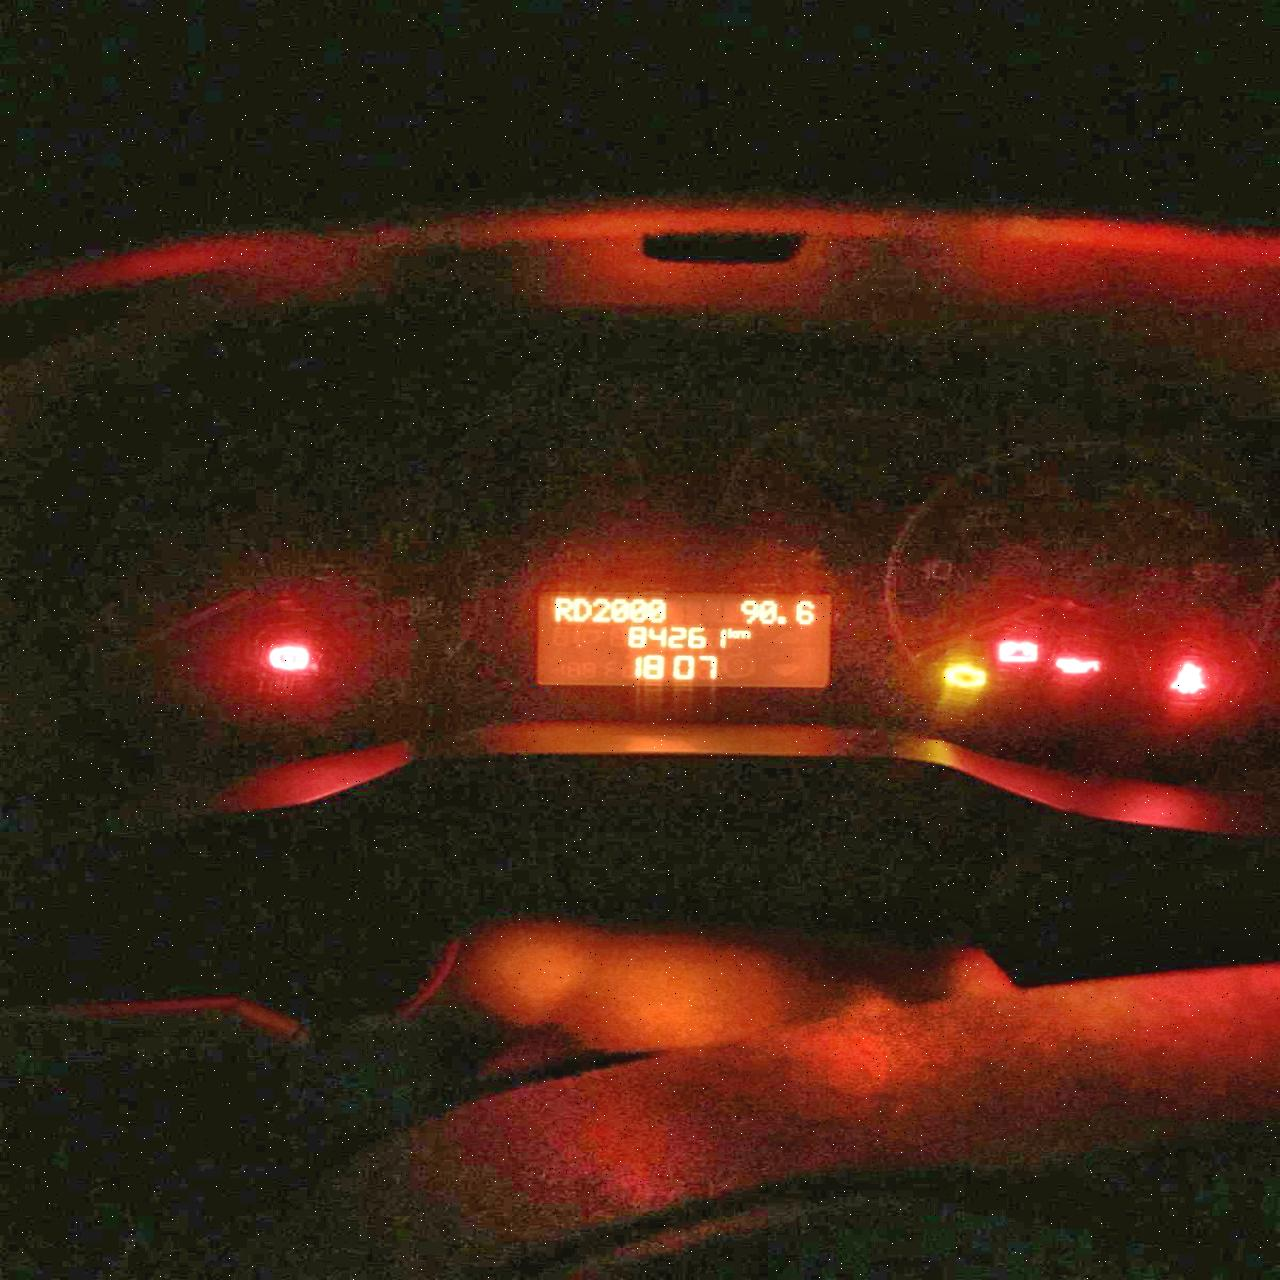-: (777, 614, 788, 626)
0: (670, 654, 693, 680), (627, 598, 647, 622), (647, 597, 666, 621), (610, 597, 627, 622), (758, 599, 776, 624)
1: (717, 626, 727, 648), (633, 654, 641, 679)
2: (591, 598, 610, 622), (668, 626, 687, 648)
4: (647, 624, 667, 646)
6: (795, 599, 816, 624), (687, 626, 706, 648)
7: (697, 654, 720, 680)
8: (642, 654, 663, 679), (626, 625, 647, 647)
9: (740, 598, 758, 624)
X: (553, 595, 572, 622), (572, 595, 591, 622), (735, 628, 751, 639), (727, 626, 735, 639)
odometer: (530, 587, 837, 690)
